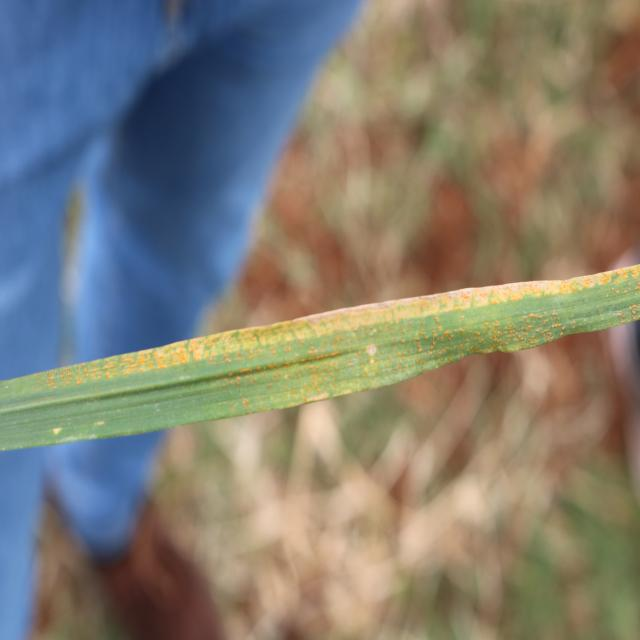Stripe Rust: (45, 274, 582, 368)
